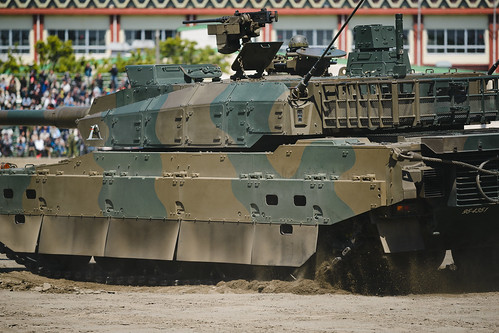tank: (14, 43, 499, 282)
weapon: (185, 6, 290, 74)
